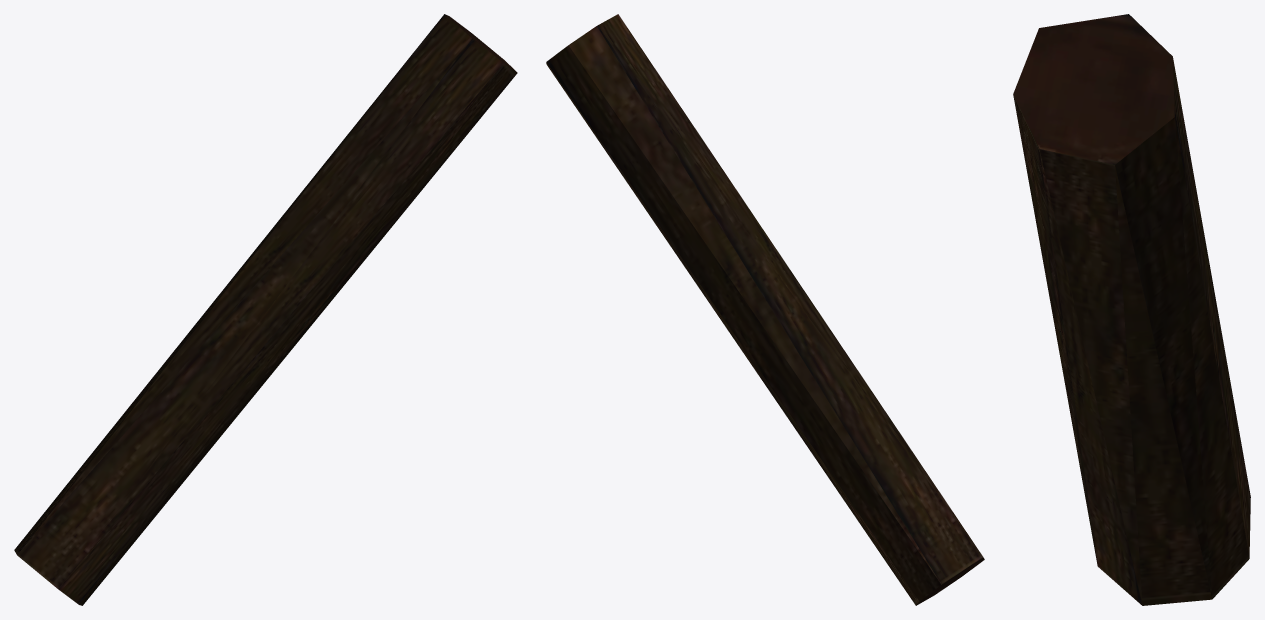
Rendered from BELA3.glb.
3 views of the same model, side by side, from view 1: azimuth 30°, elevation 25°; view 2: azimuth 150°, elevation 25°; view 3: azimuth 270°, elevation 25° (orthographic). The views are drawn at different scales.
Visible parts, largest first — view 1: BELA3; view 2: BELA3; view 3: BELA3.
Part boxes in pixels (x1,y1,x2,y2): BELA3: (14, 14, 517, 605); BELA3: (546, 14, 984, 605); BELA3: (1013, 14, 1250, 605).
Bounding box in the file's own units: 1.29 × 1.32 × 0.316.
Materials: 1 (1 with a texture image).
